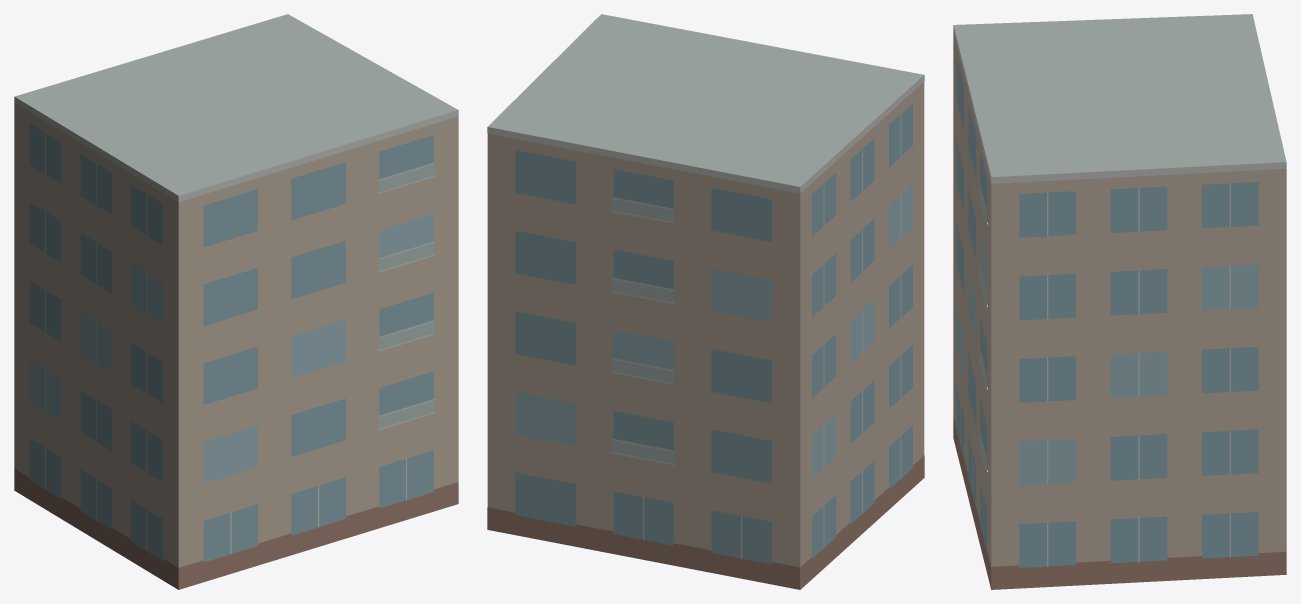
Rendered from survey-upis-32885111.glb.
3 renders of one model, left to right at view 1: azimuth 30°, elevation 25°; view 2: azimuth 150°, elevation 25°; view 3: azimuth 270°, elevation 25°, orthographic. The views are drawn at different scales.
Parts seen in each view (by area): view 1: survey-upis-32885111.tmp; view 2: survey-upis-32885111.tmp; view 3: survey-upis-32885111.tmp.
Part boxes in pixels (x1,y1,x2,y2): survey-upis-32885111.tmp: (14,14,458,589); survey-upis-32885111.tmp: (487,14,924,589); survey-upis-32885111.tmp: (953,14,1286,589).
Bounding box in the file's own units: 12.73 × 15 × 10.99.
